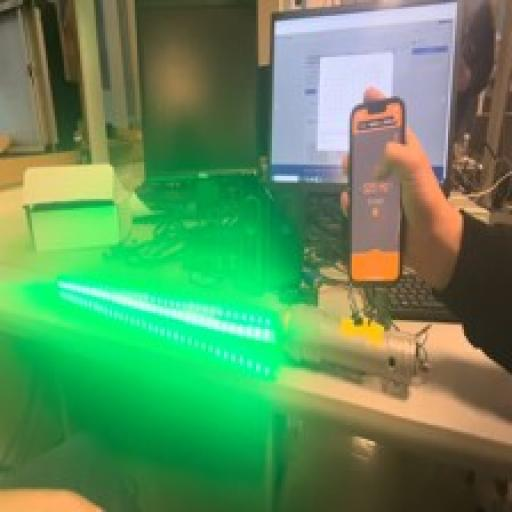lightsaber: (51, 268, 423, 403)
